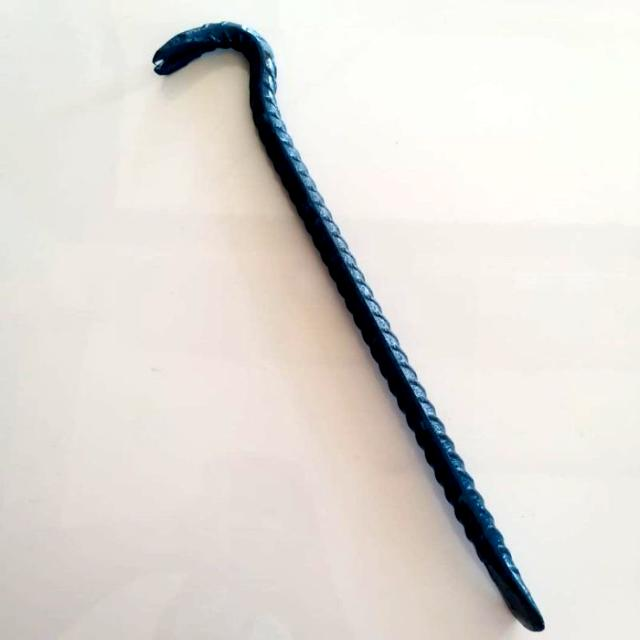crow bar: (152, 10, 562, 636)
